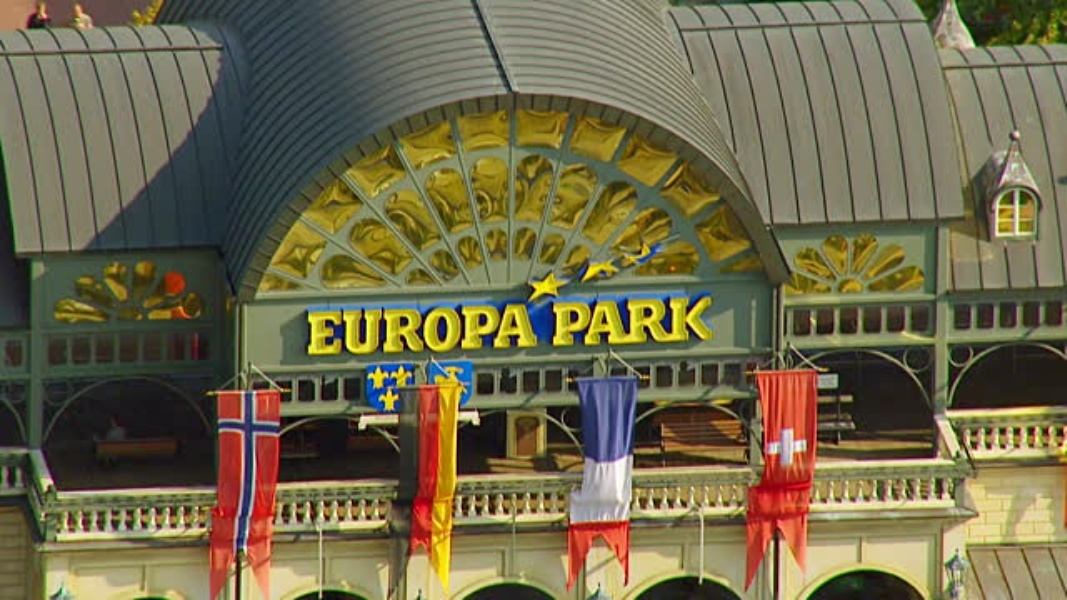text: (561, 292, 576, 347), (577, 292, 592, 347), (593, 292, 608, 347), (609, 292, 624, 347), (625, 292, 640, 347), (641, 292, 656, 347), (657, 292, 672, 347), (673, 292, 688, 347), (689, 292, 704, 347), (321, 302, 336, 356), (337, 302, 352, 356), (353, 302, 368, 356), (369, 302, 384, 356), (385, 302, 400, 356), (401, 302, 416, 356), (417, 302, 432, 356), (433, 302, 448, 356), (449, 302, 464, 356), (465, 302, 480, 356), (481, 302, 496, 356), (497, 302, 512, 356), (513, 302, 528, 356), (306, 302, 320, 356), (529, 302, 541, 356), (551, 292, 560, 347), (705, 292, 714, 347)
